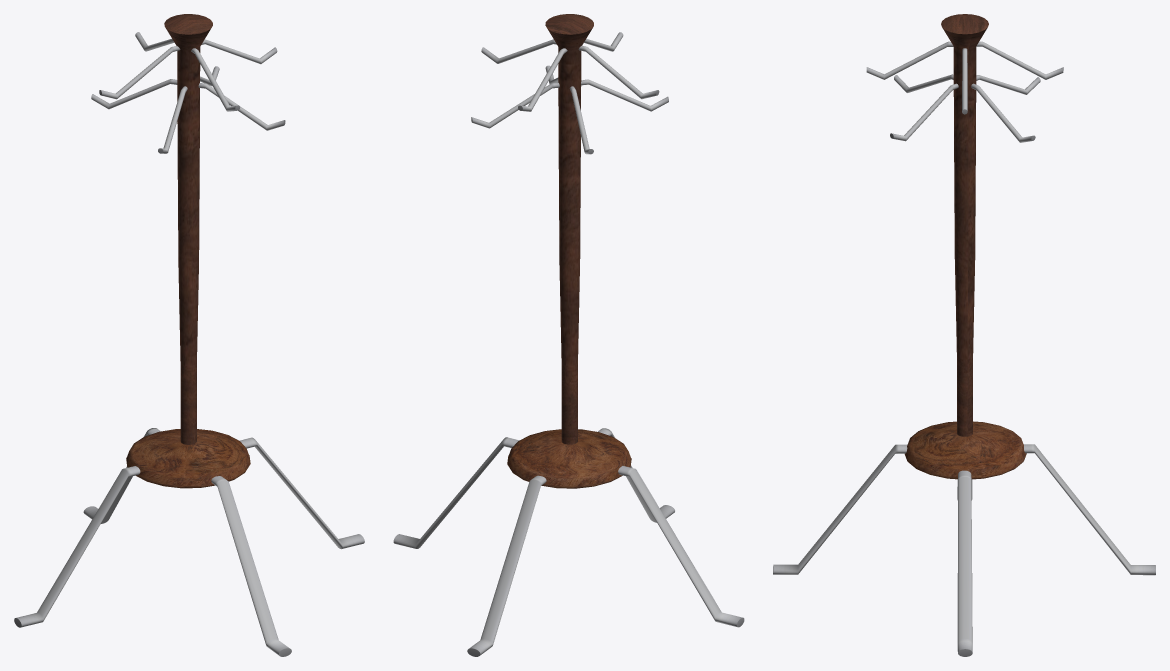
The model's file is PercheroTexturafbx.fbx.
3 views of the same model, side by side, from view 1: azimuth 30°, elevation 25°; view 2: azimuth 150°, elevation 25°; view 3: azimuth 270°, elevation 25° (orthographic).
Visible parts, largest first — view 1: polySurface1; view 2: polySurface1; view 3: polySurface1.
Part boxes in pixels (box(x1,y1,x2,y2)): polySurface1: box(14, 14, 364, 656); polySurface1: box(393, 14, 744, 656); polySurface1: box(773, 14, 1155, 656).
Bounding box in the file's own units: 2.61 × 4.14 × 2.57.
3 materials, 3 textured.
